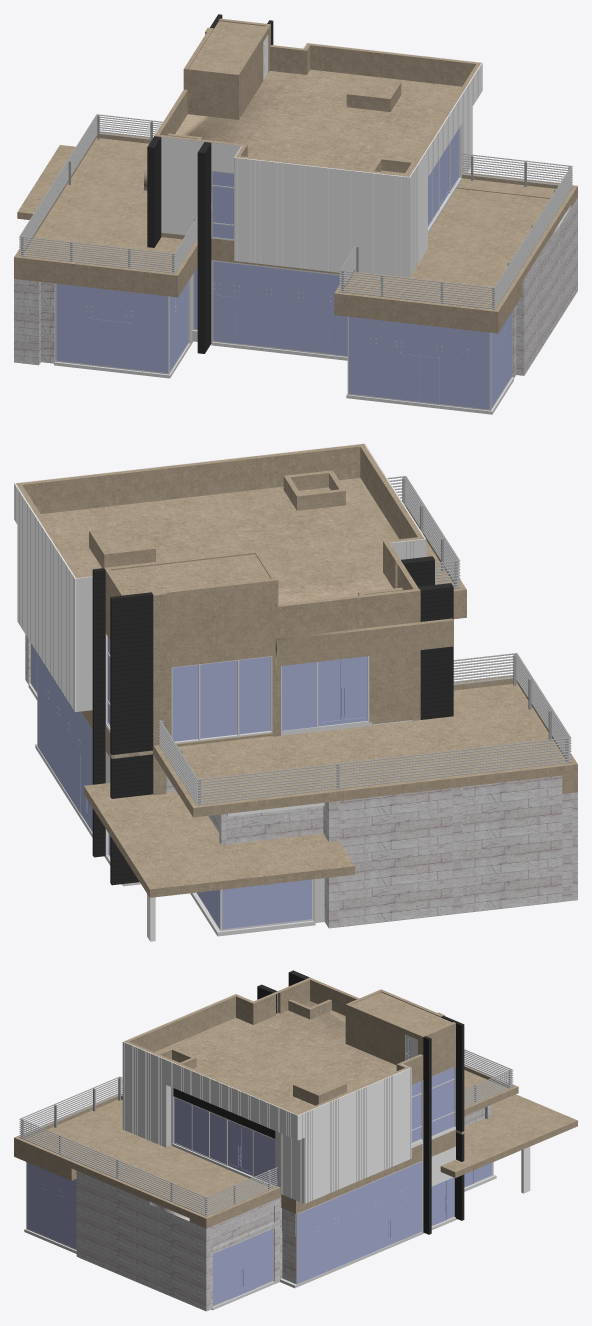
3 renders of one model, top to bottom at view 1: azimuth 30°, elevation 25°; view 2: azimuth 150°, elevation 25°; view 3: azimuth 270°, elevation 25°, orthographic. The views are drawn at different scales.
Parts seen in each view (by area): view 1: SLAB1 SLAB [349911], Basic Wall DECO -50mm Brick [404889], Generic Models 2 Generic Models 1 [351433], Basic Wall WALL - 200mm [379394], Basic Wall DECO -50mm Brick [405000], Basic Wall WALL - 200mm [523929], Basic Wall WALL - 350mm [353211], Basic Wall WALL - 200mm [354045], Generic Models 1 Generic Models 1 [493532], Basic Wall Generic - 200mm [493302], FACADE.B.24 Glazed Panel [365815], Basic Wall WALL - 200mm [432780] (+61 smaller); view 2: SLAB1 SLAB [349911], Generic Models 2 Generic Models 1 [351433], Basic Wall WALL - 200mm [352759], Basic Wall WALL - 200mm [352641], Basic Wall WALL - 200mm [379441], Basic Wall WALL - 200mm [489253], Basic Wall DECO -50mm Brick [511604], Basic Wall WALL - 200mm [362753], Basic Wall WALL - 200mm [496773], Generic Models 1 Generic Models 1 [493532], Basic Wall WALL - 350mm [379819], Basic Wall WALL - 200mm [354812] (+40 smaller); view 3: SLAB1 SLAB [349911], Generic Models 2 Generic Models 1 [351433], Basic Wall DECO -50mm Brick [511604], Basic Wall DECO -50mm Brick [405000], Basic Wall WALL - 200mm [354045], Basic Wall WALL - 200mm [432780], Basic Wall Generic - 200mm [493120], Basic Wall WALL - 200mm [379116], Generic Models 1 Generic Models 1 [493532], Basic Wall WALL - 200mm [354812], Basic Wall DECO -50mm Brick [505375], Basic Wall Generic - 200mm [398954] (+55 smaller).
Part boxes in pixels (left/top/right/bottom): SLAB1 SLAB [349911]: left=14, top=132, right=577, bottom=333; Basic Wall DECO -50mm Brick [404889]: left=235, top=157, right=409, bottom=277; Generic Models 2 Generic Models 1 [351433]: left=144, top=69, right=461, bottom=190; Basic Wall WALL - 200mm [379394]: left=310, top=43, right=480, bottom=86; Basic Wall DECO -50mm Brick [405000]: left=409, top=62, right=482, bottom=276; Basic Wall WALL - 200mm [523929]: left=158, top=134, right=208, bottom=235; Basic Wall WALL - 350mm [353211]: left=197, top=142, right=211, bottom=353; Basic Wall WALL - 200mm [354045]: left=525, top=234, right=552, bottom=373; Generic Models 1 Generic Models 1 [493532]: left=189, top=21, right=264, bottom=72; Basic Wall Generic - 200mm [493302]: left=187, top=67, right=235, bottom=119; FACADE.B.24 Glazed Panel [365815]: left=129, top=313, right=167, bottom=373; Basic Wall WALL - 200mm [432780]: left=554, top=200, right=575, bottom=327; SLAB1 SLAB [349911]: left=81, top=505, right=577, bottom=897; Generic Models 2 Generic Models 1 [351433]: left=41, top=478, right=453, bottom=666; Basic Wall WALL - 200mm [352759]: left=339, top=788, right=452, bottom=927; Basic Wall WALL - 200mm [352641]: left=463, top=775, right=562, bottom=913; Basic Wall WALL - 200mm [379441]: left=21, top=444, right=360, bottom=513; Basic Wall WALL - 200mm [489253]: left=165, top=578, right=278, bottom=746; Basic Wall DECO -50mm Brick [511604]: left=14, top=483, right=76, bottom=712; Basic Wall WALL - 200mm [362753]: left=110, top=592, right=152, bottom=754; Basic Wall WALL - 200mm [496773]: left=275, top=588, right=420, bottom=638; Generic Models 1 Generic Models 1 [493532]: left=111, top=554, right=270, bottom=594; Basic Wall WALL - 350mm [379819]: left=418, top=583, right=453, bottom=719; Basic Wall WALL - 200mm [354812]: left=92, top=568, right=105, bottom=857; SLAB1 SLAB [349911]: left=14, top=1065, right=577, bottom=1228; Generic Models 2 Generic Models 1 [351433]: left=154, top=1001, right=396, bottom=1138; Basic Wall DECO -50mm Brick [511604]: left=298, top=1067, right=411, bottom=1203; Basic Wall DECO -50mm Brick [405000]: left=122, top=1041, right=298, bottom=1147; Basic Wall WALL - 200mm [354045]: left=79, top=1172, right=144, bottom=1284; Basic Wall WALL - 200mm [432780]: left=149, top=1201, right=201, bottom=1308; Basic Wall Generic - 200mm [493120]: left=345, top=1003, right=422, bottom=1065; Basic Wall WALL - 200mm [379116]: left=124, top=994, right=237, bottom=1052; Generic Models 1 Generic Models 1 [493532]: left=352, top=992, right=451, bottom=1034; Basic Wall WALL - 200mm [354812]: left=423, top=1036, right=431, bottom=1234; Basic Wall DECO -50mm Brick [505375]: left=275, top=1131, right=303, bottom=1203; Basic Wall Generic - 200mm [398954]: left=420, top=1022, right=455, bottom=1076.
Bounding box in the file's own units: 27.65 × 11.91 × 30.9.
8 materials, 4 textured.
